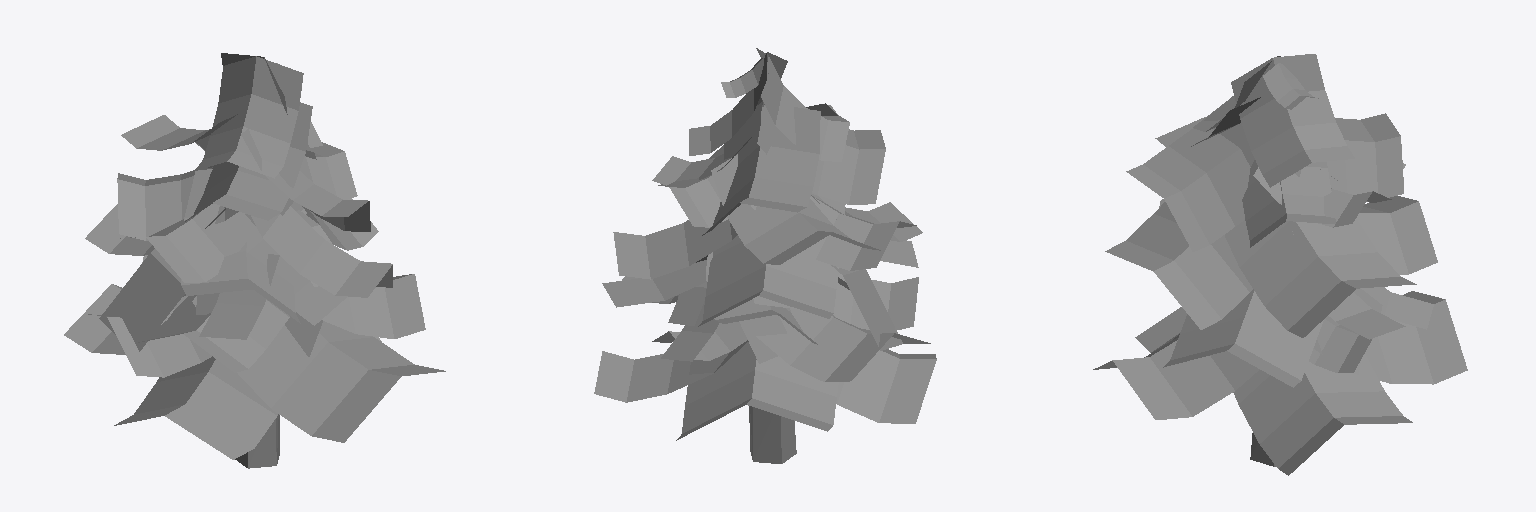
The picture shows the model from 3 angles: view 1: azimuth 30°, elevation 25°; view 2: azimuth 150°, elevation 25°; view 3: azimuth 270°, elevation 25°; orthographic projection.
Visible parts, largest first — view 1: ms_001, ms_002; view 2: ms_001, ms_002; view 3: ms_001.
Boxes of the visible parts, x1,y1,x2,y2 form: ms_001: [64, 53, 445, 459]; ms_002: [235, 212, 306, 468]; ms_001: [594, 48, 936, 440]; ms_002: [749, 61, 796, 463]; ms_001: [1093, 54, 1467, 475].
Bounding box in the file's own units: 903 × 1187 × 1008.